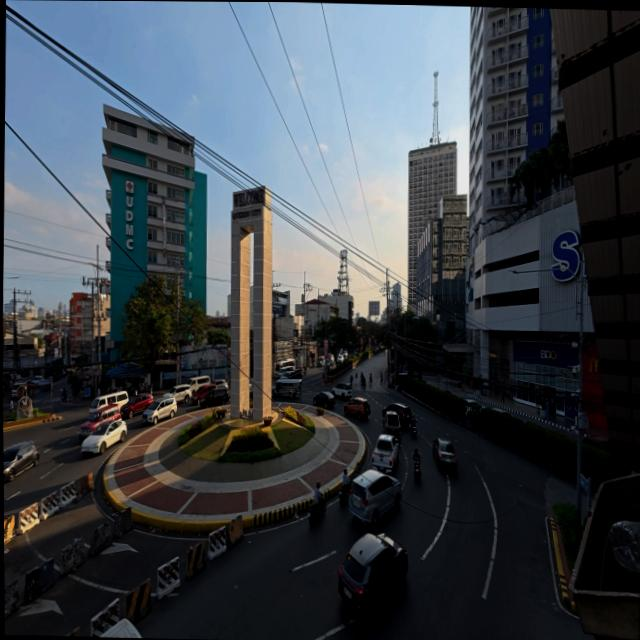Jeepneys: (273, 379, 301, 398)
car: (339, 534, 407, 621), (349, 470, 402, 525), (78, 405, 121, 443), (81, 420, 127, 455), (3, 441, 39, 481), (143, 397, 177, 425), (121, 393, 153, 418), (432, 438, 456, 471), (100, 619, 142, 637), (383, 403, 412, 426), (199, 388, 229, 408), (343, 397, 370, 419), (191, 383, 216, 404), (164, 384, 191, 402), (313, 391, 335, 408), (583, 436, 609, 450), (465, 398, 483, 418), (332, 383, 351, 400), (12, 383, 27, 400), (492, 407, 513, 417), (285, 368, 303, 379), (213, 380, 229, 390), (31, 375, 43, 385), (336, 353, 345, 365), (317, 357, 324, 366)
motorcycle: (307, 498, 326, 526), (339, 485, 351, 506), (414, 460, 421, 480), (140, 383, 152, 393), (163, 380, 173, 389), (412, 421, 417, 436), (361, 378, 366, 389), (62, 391, 66, 402)
trucks: (372, 435, 398, 473), (383, 412, 401, 442)
vans: (91, 391, 128, 410), (188, 375, 211, 393), (274, 358, 294, 374)
